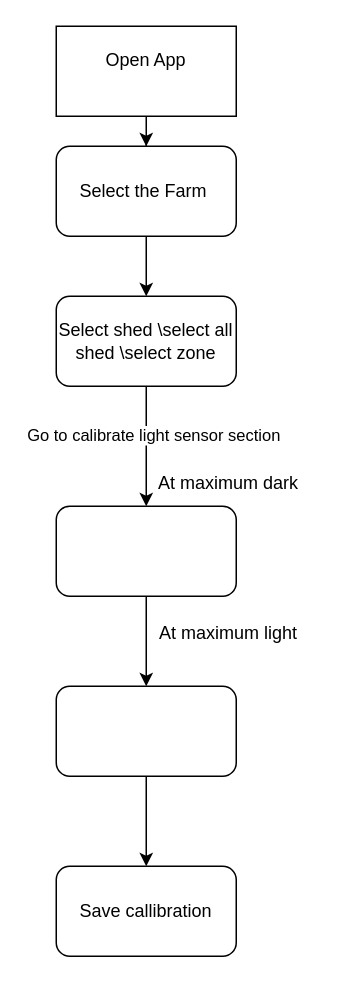
Image size: 351x983. Some labels were removed from this diagram. The shapes that lost their labels are listed below. From the top down, each one's centre as x and y in pixels, then its label:
At point (145, 550): "Set the dark base line".
At point (145, 730): "Set the bright base line".
